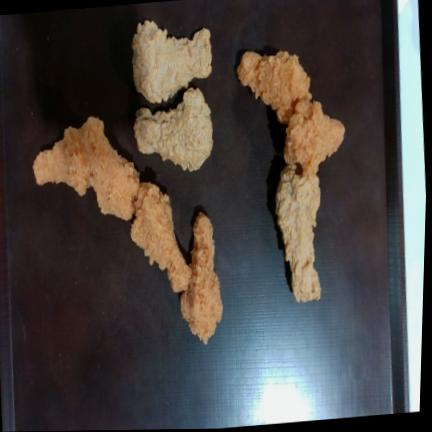chicken: (130, 182, 190, 291), (134, 87, 212, 170), (132, 20, 211, 101), (276, 164, 320, 301), (180, 212, 222, 343), (237, 50, 311, 123), (284, 101, 344, 174), (33, 126, 90, 195)
